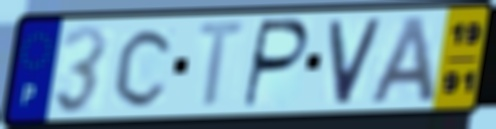3: (52, 22, 115, 117)
A: (366, 13, 439, 107)
C: (111, 25, 178, 110)
P: (240, 17, 312, 111)
T: (193, 19, 252, 112)
V: (326, 15, 386, 107)
